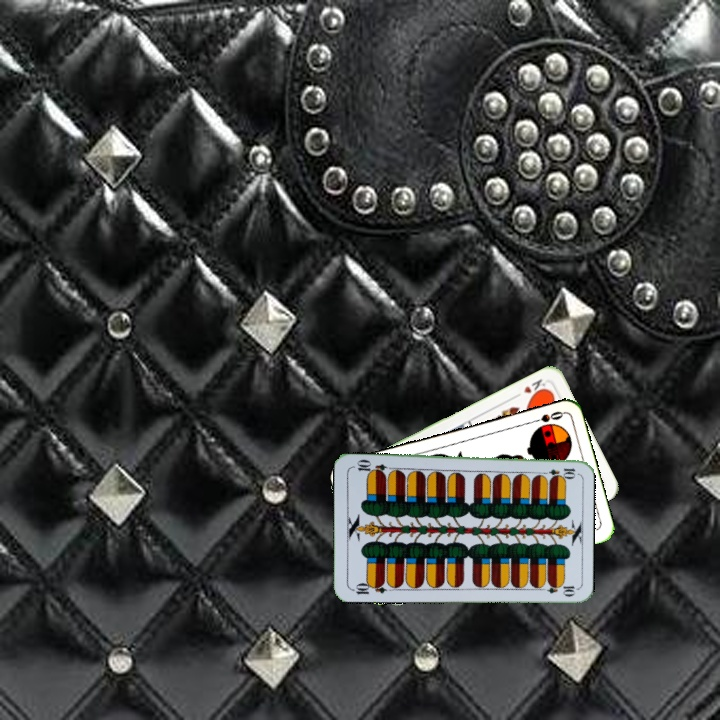E10: (348, 578, 388, 597), (537, 464, 578, 478)
HK: (511, 375, 550, 401)
SO: (526, 407, 566, 426)
